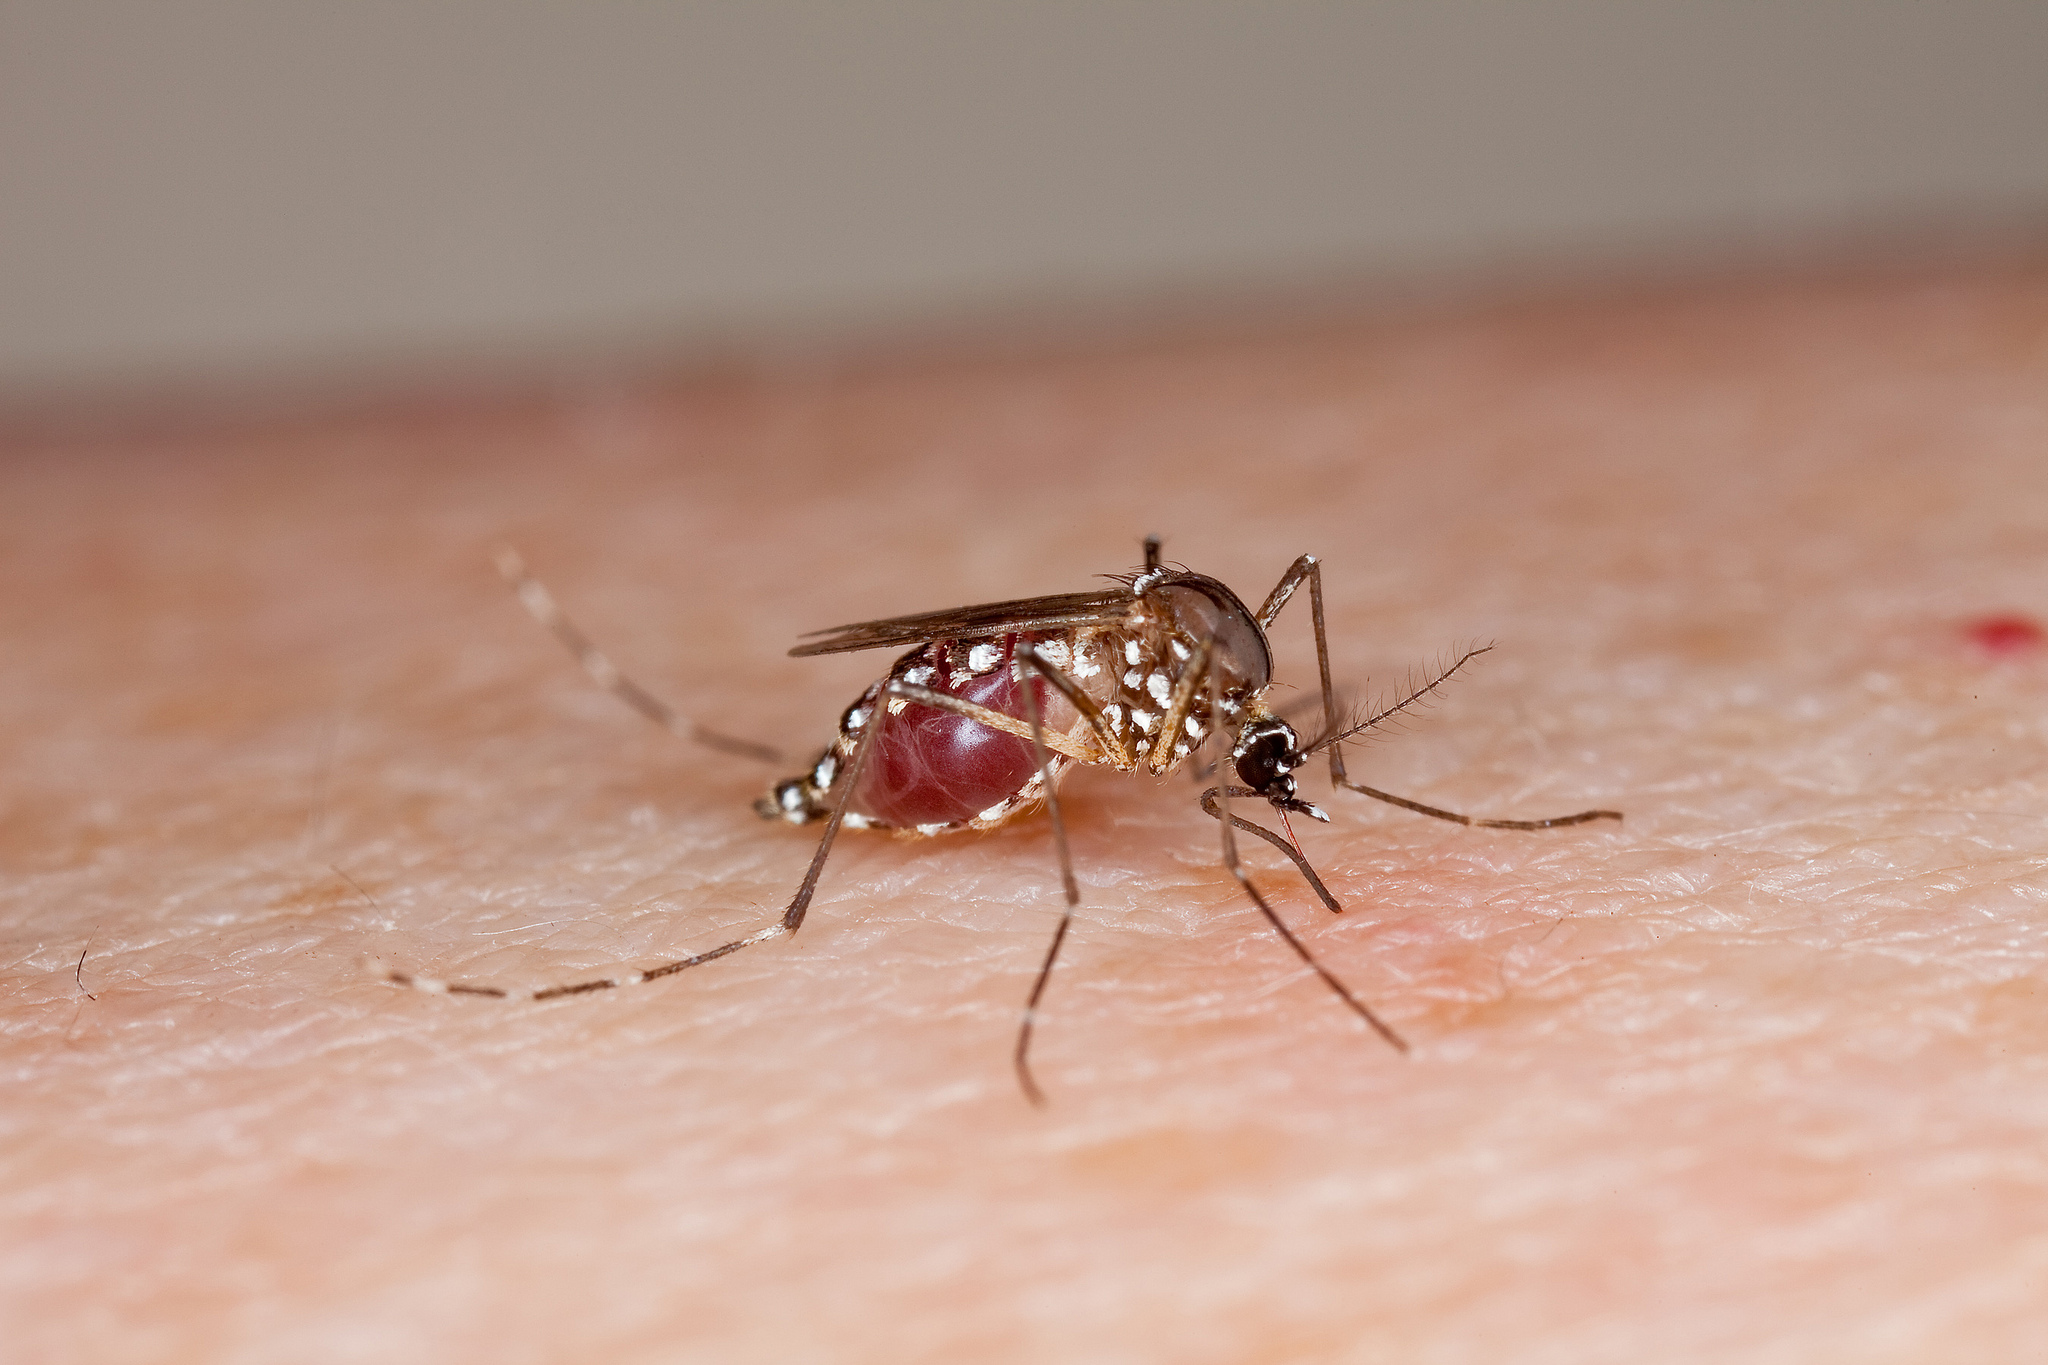dengue_mosquito: (589, 535, 1495, 1053)
